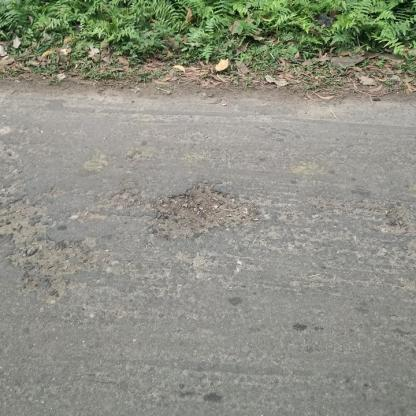pothole: (150, 181, 261, 240), (6, 238, 94, 283), (0, 198, 44, 235)
